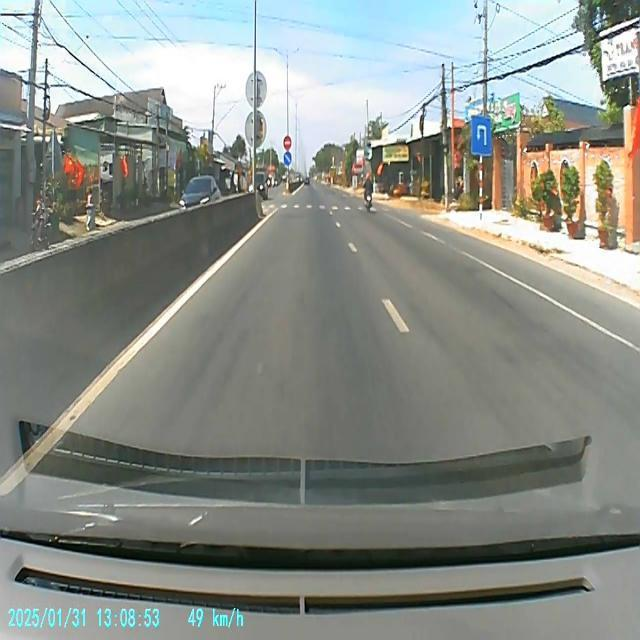102-cam-di-nguoc-chieu: (284, 134, 292, 150)
302a-huong-phai-di-vong-chuong-ngai-vat-1: (284, 152, 292, 164)
